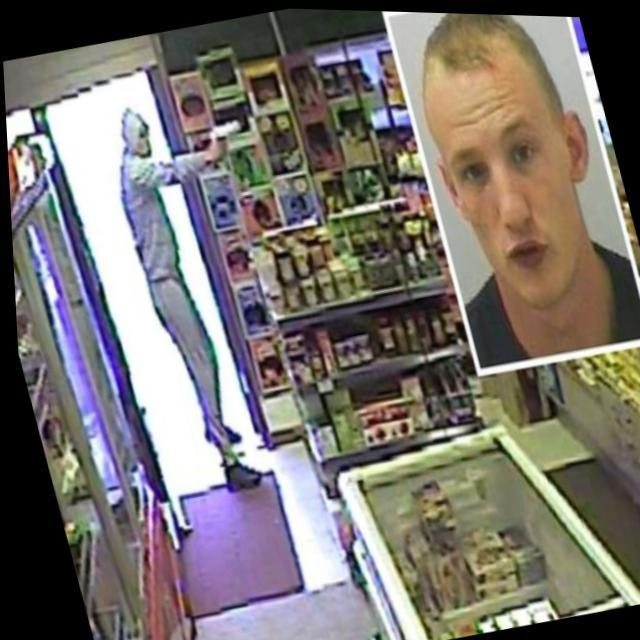weapon: (200, 116, 253, 153)
